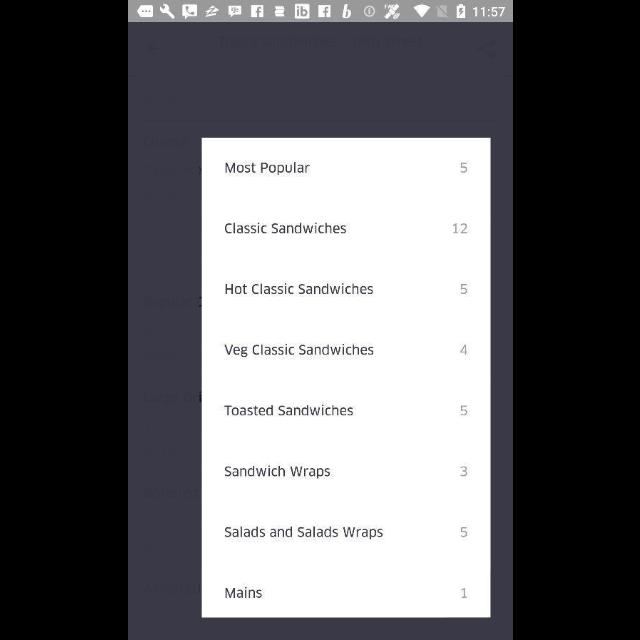panel: (200, 138, 490, 618)
text: (224, 526, 382, 540), (224, 344, 374, 358), (225, 283, 373, 295), (224, 405, 352, 417), (224, 465, 330, 479), (224, 222, 346, 234), (224, 162, 310, 176), (224, 587, 262, 599), (452, 224, 466, 234), (459, 344, 467, 356), (459, 162, 466, 174), (459, 283, 466, 295), (459, 404, 466, 416), (459, 526, 466, 538), (459, 466, 466, 476), (460, 588, 466, 598)
uppertaskbar: (128, 1, 512, 23)
